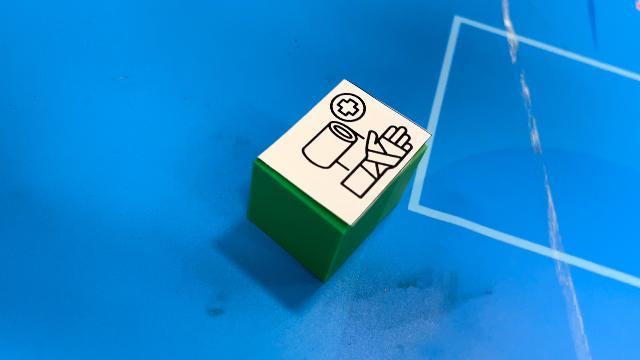bandage: (246, 79, 432, 283)
